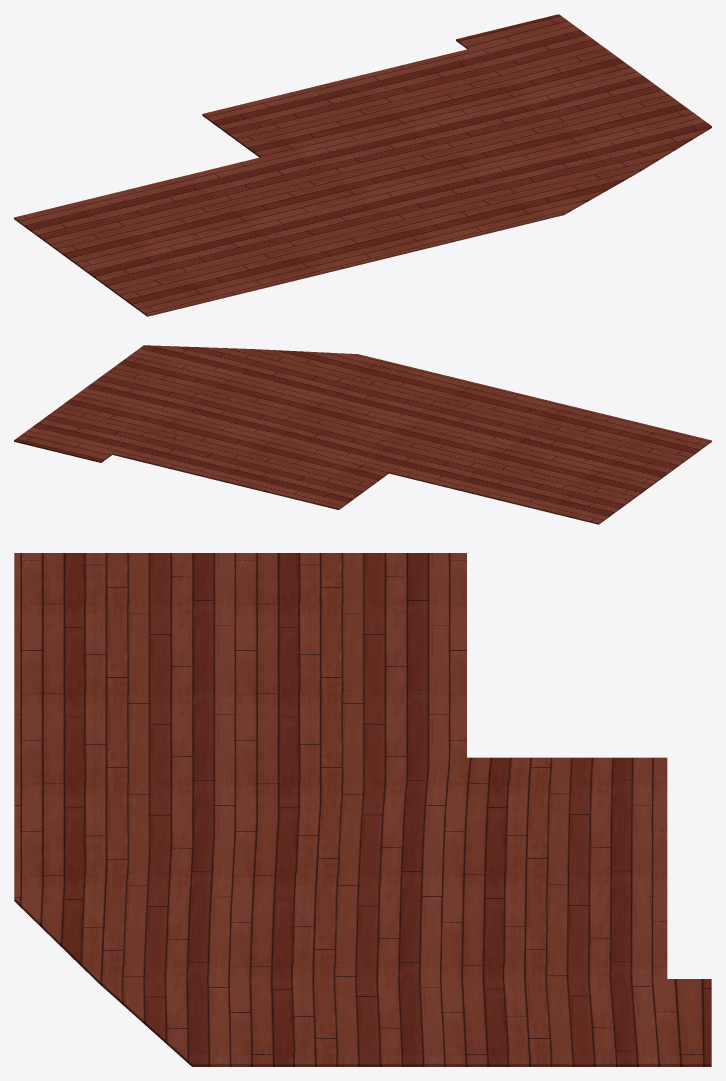
Rendered from SM_Floor.fbx.
3 renders of one model, top to bottom at view 1: azimuth 30°, elevation 25°; view 2: azimuth 150°, elevation 25°; view 3: azimuth 270°, elevation 25°, orthographic. The views are drawn at different scales.
Visible parts, largest first — view 1: SM_Floor_LOD0; view 2: SM_Floor_LOD0; view 3: SM_Floor_LOD0.
Part boxes in pixels (x1,y1,x2,y2): SM_Floor_LOD0: (14, 14, 711, 316); SM_Floor_LOD0: (14, 345, 711, 524); SM_Floor_LOD0: (14, 553, 711, 1066).
Bounding box in the file's own units: 2258 × 1302 × 5.94.
Materials: 1 (1 with a texture image).
